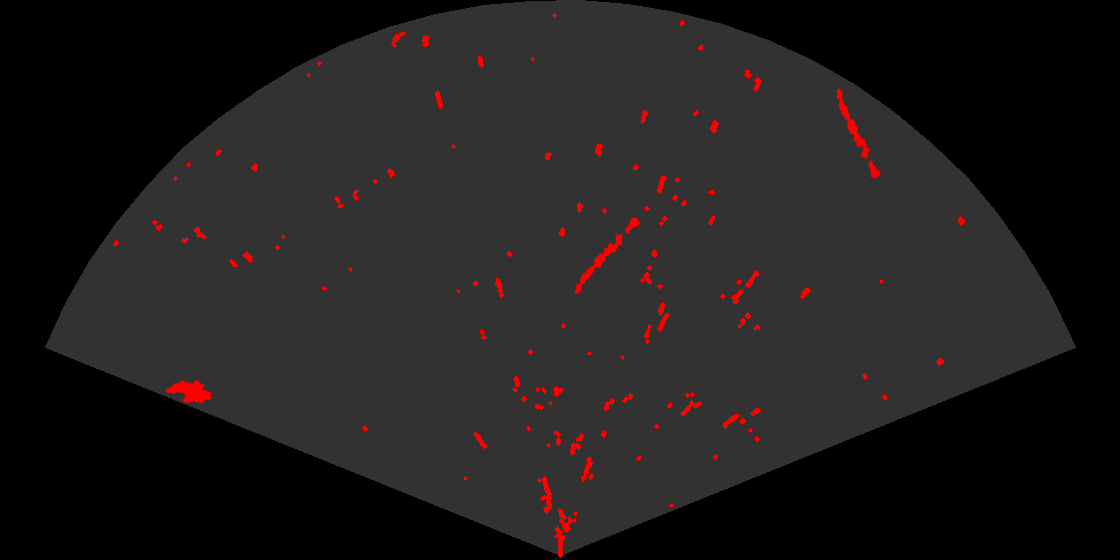AUV: (163, 379, 214, 405)
chain: (573, 216, 642, 296), (835, 87, 882, 180)
